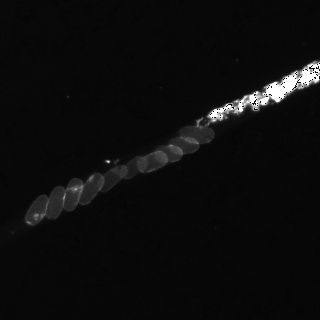embryo: (79, 173, 104, 204), (98, 165, 127, 191), (24, 195, 48, 225), (136, 150, 168, 172), (178, 126, 214, 144), (63, 178, 83, 210), (45, 186, 64, 219), (120, 156, 147, 179), (168, 136, 198, 155), (154, 144, 182, 163)
